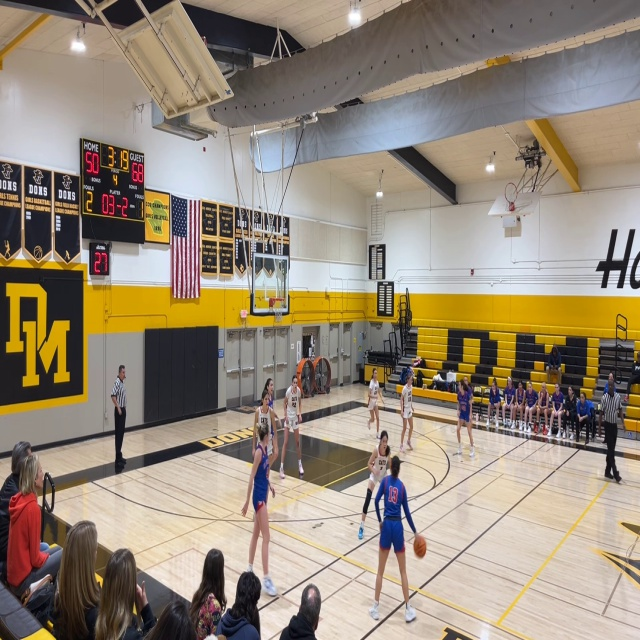Basketball: (413, 535, 426, 558)
